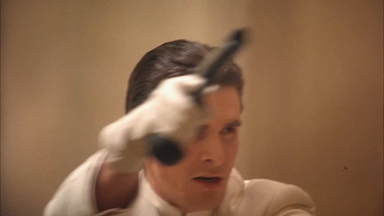firearm: (147, 21, 249, 170)
